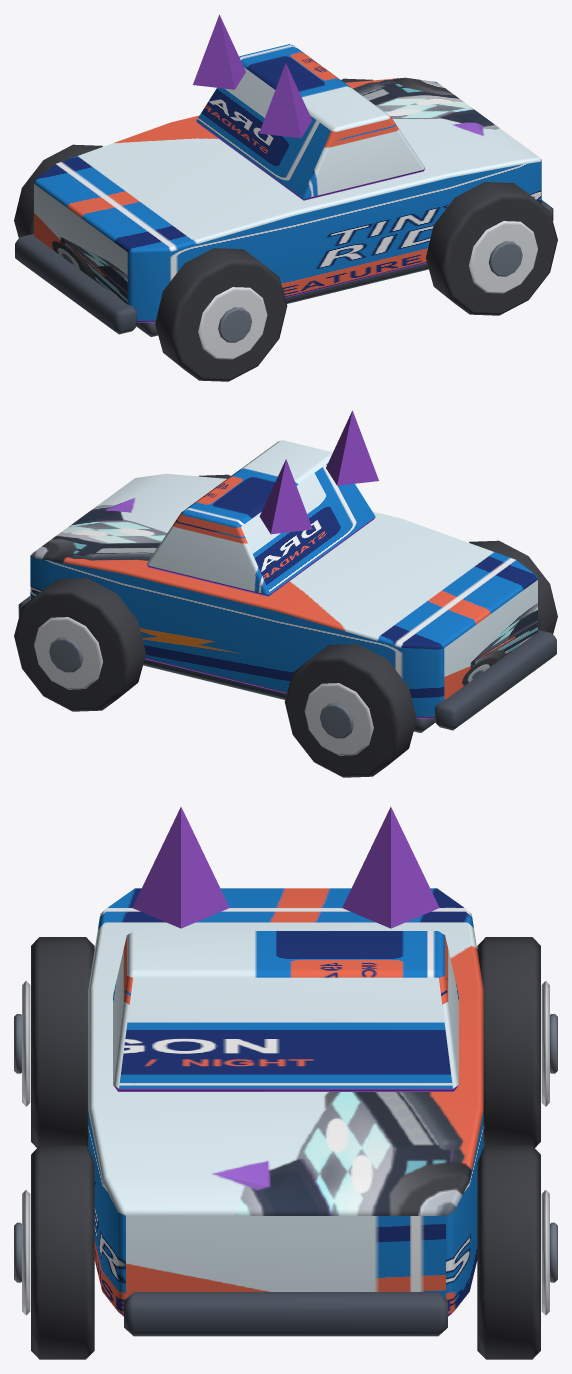
3 renders of one model, top to bottom at view 1: azimuth 30°, elevation 25°; view 2: azimuth 150°, elevation 25°; view 3: azimuth 270°, elevation 25°, orthographic. The views are drawn at different scales.
Visible parts, largest first — view 1: CR-05_connected_shell, CR-05_cabin, Tire.002, Tire, front bumper, Rim, Rim.002, horn.001, horn, Tire.001, underbody, Hub (+1 smaller); view 2: CR-05_connected_shell, CR-05_cabin, Tire.003, Tire.001, front bumper, Rim.001, Rim.003, horn, horn.001, Tire, underbody, Hub.001 (+1 smaller); view 3: CR-05_connected_shell, CR-05_cabin, rear bumper, Tire.002, Tire.003, Tire, Tire.001, horn, horn.001, Rim, Rim.001, Rim.002 (+1 smaller).
Part boxes in pixels (bbox=[...]): CR-05_connected_shell: bbox=[34, 77, 541, 322]; CR-05_cabin: bbox=[196, 44, 424, 200]; Tire.002: bbox=[426, 182, 557, 315]; Tire: bbox=[155, 248, 287, 381]; front bumper: bbox=[15, 234, 137, 334]; Rim: bbox=[198, 287, 267, 359]; Rim.002: bbox=[469, 221, 537, 293]; horn.001: bbox=[193, 14, 245, 89]; horn: bbox=[259, 63, 312, 138]; Tire.001: bbox=[14, 144, 102, 237]; underbody: bbox=[136, 263, 428, 336]; Hub: bbox=[218, 307, 251, 342]; CR-05_connected_shell: bbox=[30, 473, 537, 718]; CR-05_cabin: bbox=[147, 440, 375, 596]; Tire.003: bbox=[14, 578, 145, 711]; Tire.001: bbox=[284, 644, 416, 777]; front bumper: bbox=[434, 630, 556, 730]; Rim.001: bbox=[304, 683, 373, 755]; Rim.003: bbox=[34, 617, 102, 689]; horn: bbox=[326, 410, 378, 485]; horn.001: bbox=[259, 459, 312, 534]; Tire: bbox=[469, 540, 557, 633]; underbody: bbox=[143, 659, 435, 732]; Hub.001: bbox=[320, 703, 353, 738]; CR-05_connected_shell: bbox=[88, 888, 483, 1316]; CR-05_cabin: bbox=[113, 931, 458, 1091]; rear bumper: bbox=[124, 1292, 447, 1336]; Tire.002: bbox=[31, 1145, 94, 1359]; Tire.003: bbox=[477, 1145, 540, 1359]; Tire: bbox=[31, 937, 94, 1147]; Tire.001: bbox=[477, 937, 540, 1147]; horn: bbox=[132, 806, 229, 928]; horn.001: bbox=[342, 806, 439, 928]; Rim: bbox=[22, 981, 30, 1106]; Rim.001: bbox=[541, 981, 549, 1106]; Rim.002: bbox=[22, 1190, 30, 1315].
Size of the model in its own units: 330 by 187 by 223.
